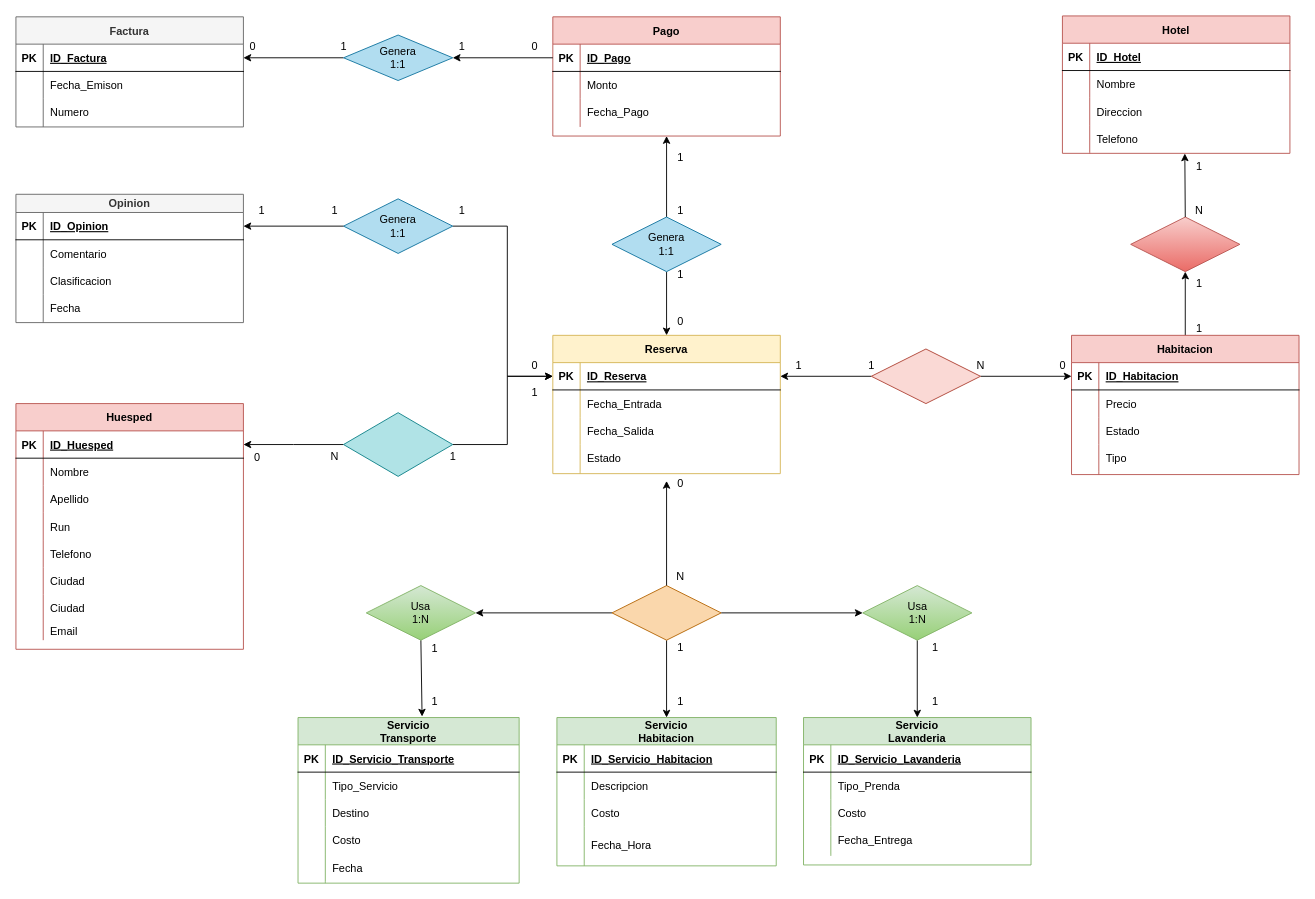
The diagram is 1315 pixels wide and 899 high, and some of its shapes have lost their labels. The box of each missing label's shape, as (x1, y1, x2, y2) in pixels:
Incluye 1:N: (870, 348, 981, 404)
Posee 1:N: (1130, 216, 1240, 272)
Realiza 1:N: (343, 412, 453, 476)
Solicita 1:N: (611, 585, 721, 640)
